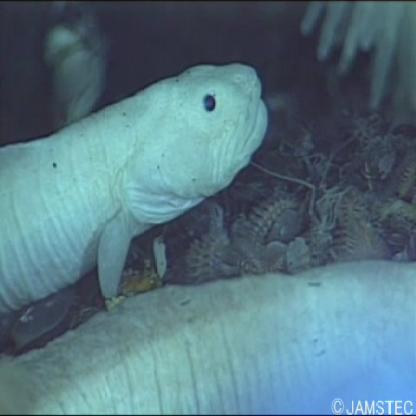Bio: (1, 56, 272, 313)
